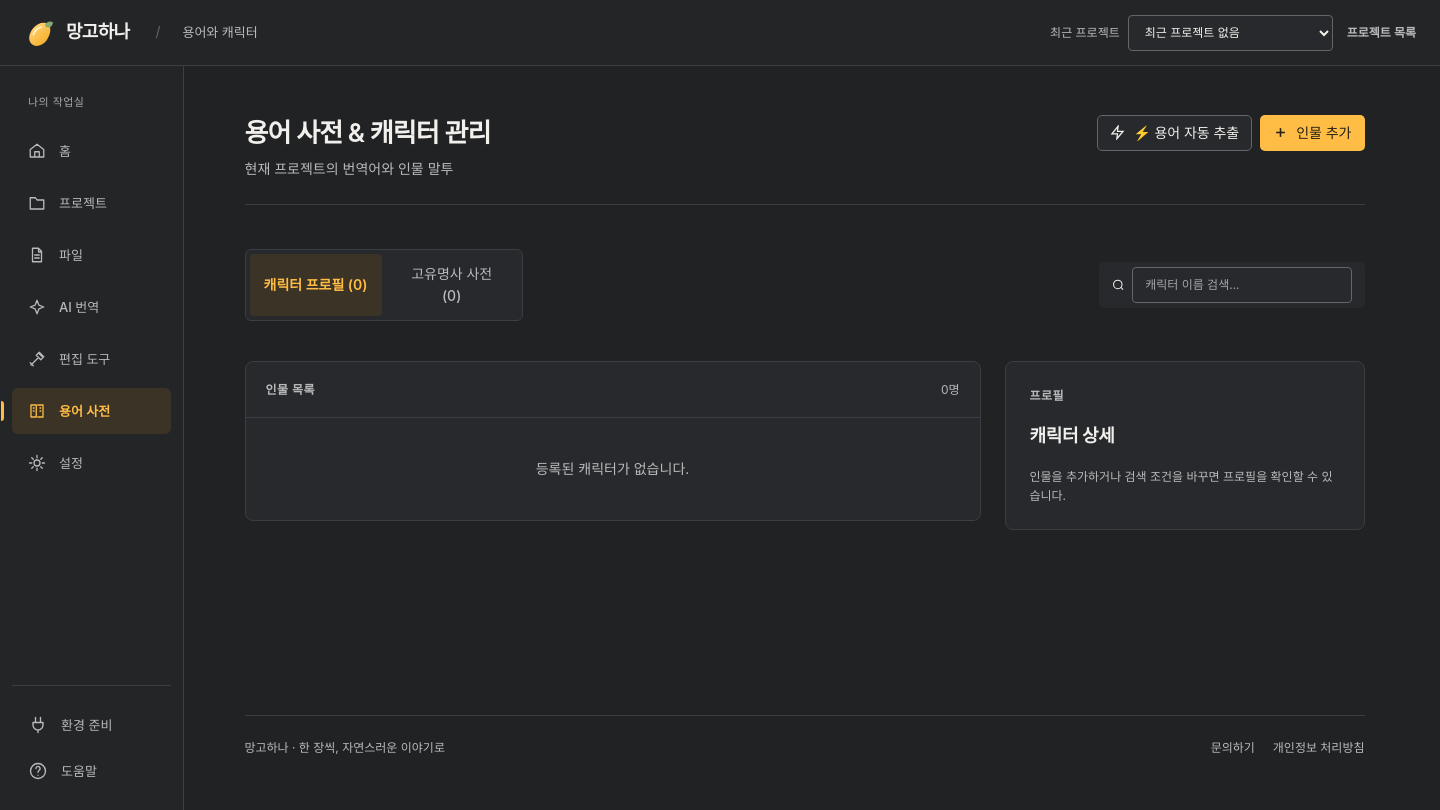
Test: DictionaryPage › shows an error when automatic glossary extraction fails
Click the button with aria-label "프로젝트에서 용어 자동 추출" at (1175, 133), box [1097,115,1252,151]
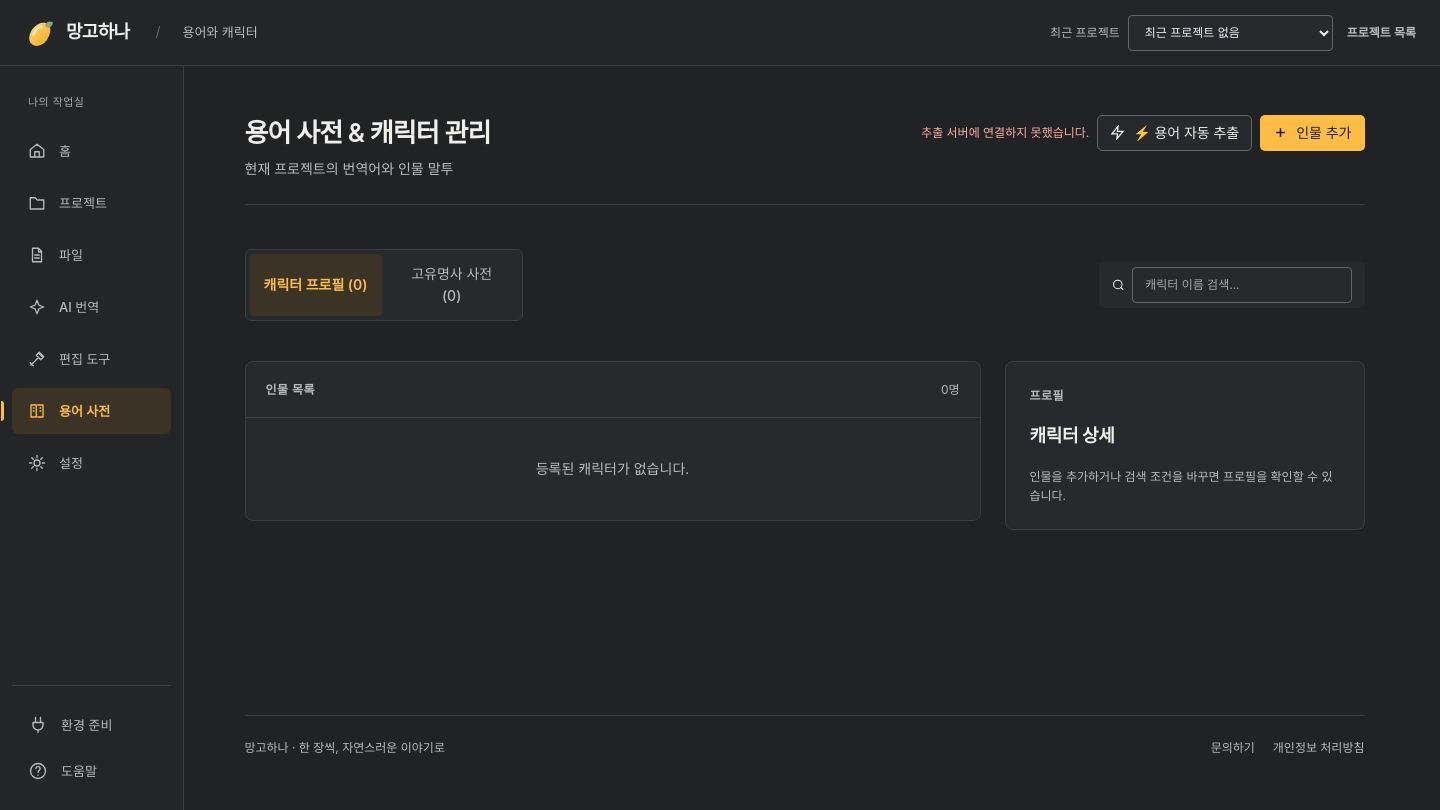
Check: the message reads "추출 서버에 연결하지 못했습니다.", box [921,125,1089,140]
